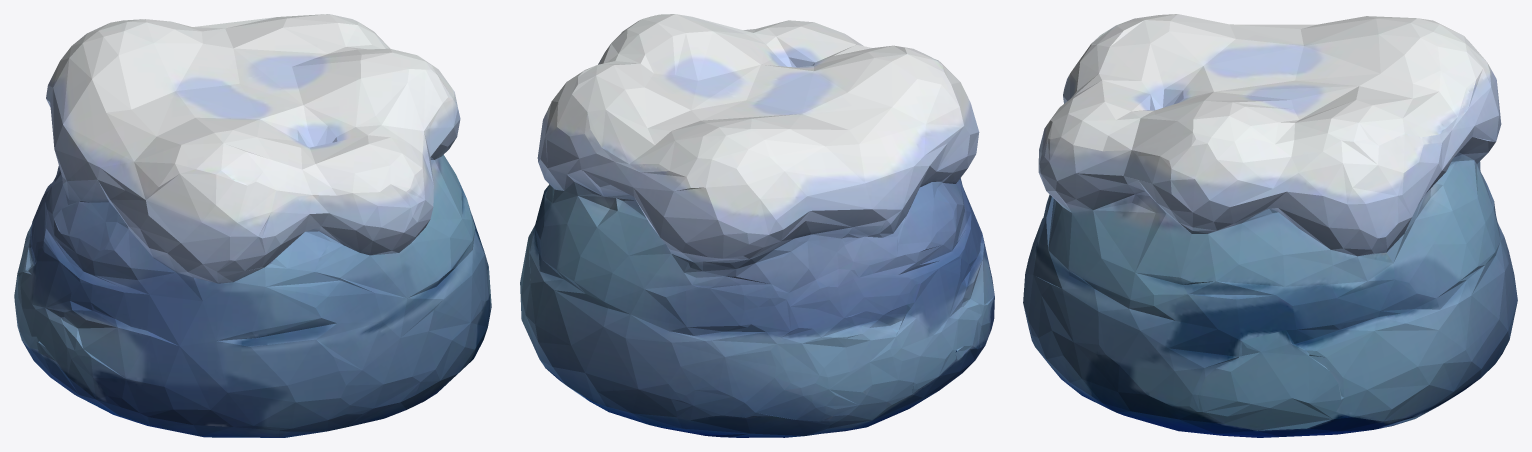
Rendered from boulder_snow.glb.
3 views of the same model, side by side, from view 1: azimuth 30°, elevation 25°; view 2: azimuth 150°, elevation 25°; view 3: azimuth 270°, elevation 25° (orthographic). The views are drawn at different scales.
Parts seen in each view (by area): view 1: tmpqx8l_siv.ply; view 2: tmpqx8l_siv.ply; view 3: tmpqx8l_siv.ply.
Boxes of the visible parts, box(x1,y1,x2,y2) form: tmpqx8l_siv.ply: box(14, 14, 491, 437); tmpqx8l_siv.ply: box(520, 14, 994, 437); tmpqx8l_siv.ply: box(1023, 14, 1517, 437).
Bounding box in the file's own units: 2 × 1.35 × 1.99.
Materials: 1 (1 with a texture image).
